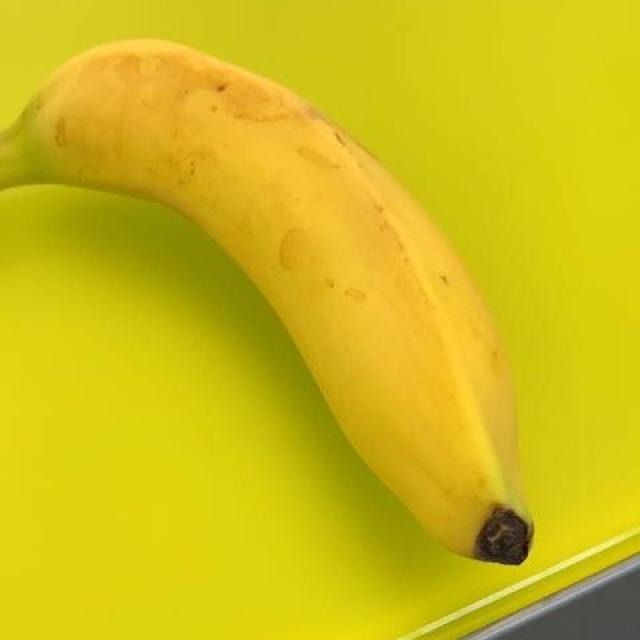Banana: (0, 31, 538, 568)
